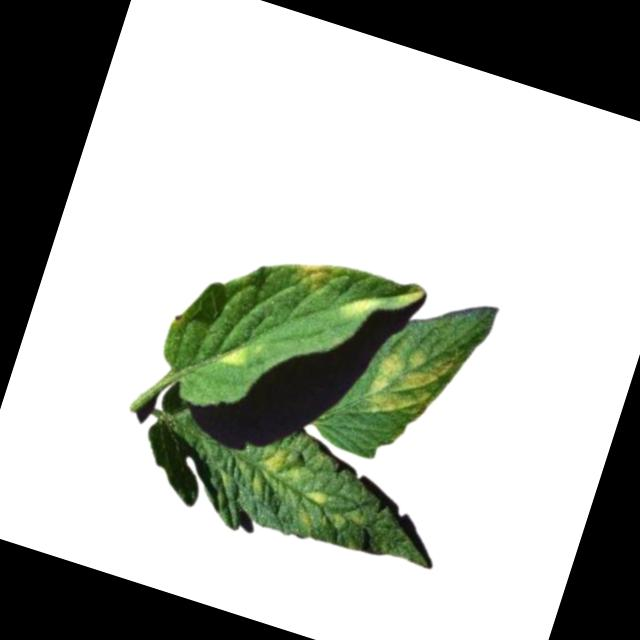Leaf_Mold: (241, 442, 378, 544), (364, 335, 457, 430), (286, 253, 333, 298), (217, 335, 254, 372), (337, 287, 373, 323)
